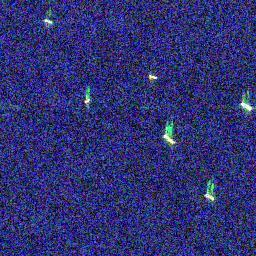Ship: (161, 133, 175, 147), (238, 101, 254, 112), (204, 188, 214, 203), (81, 94, 93, 106), (145, 72, 159, 82), (39, 17, 54, 26)
